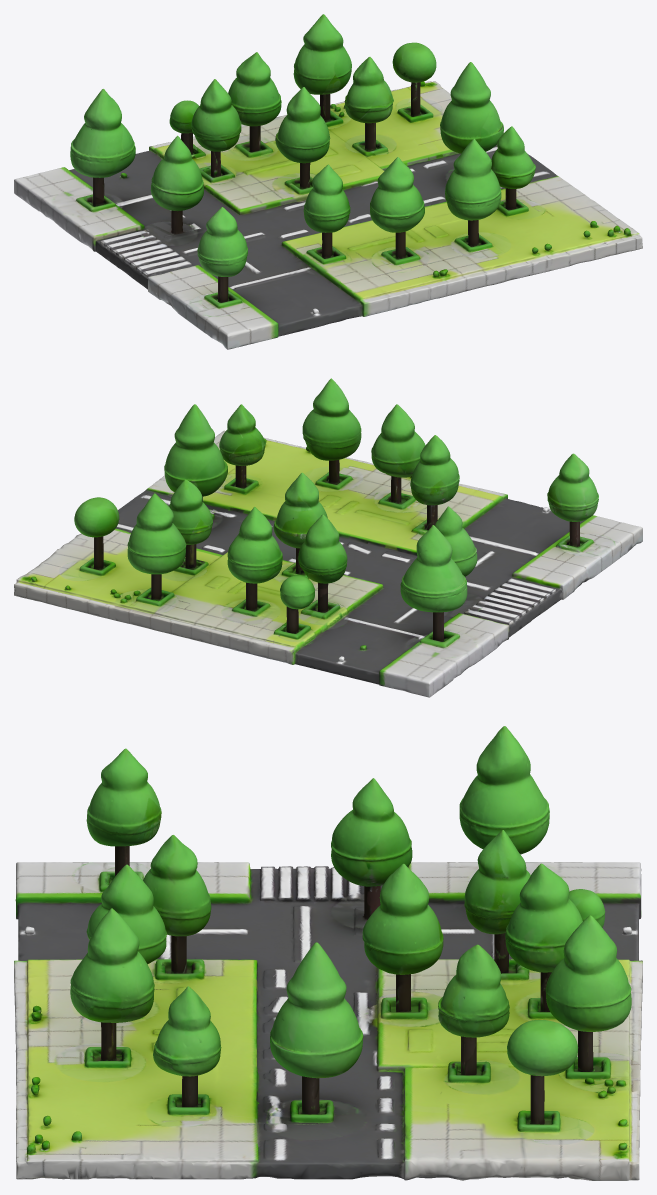
The model's file is politics.glb.
3 renders of one model, top to bottom at view 1: azimuth 30°, elevation 25°; view 2: azimuth 150°, elevation 25°; view 3: azimuth 270°, elevation 25°, orthographic. The views are drawn at different scales.
Bounding box in the file's own units: 1.9 × 0.5594 × 1.7.
Materials: 1 (1 with a texture image).
